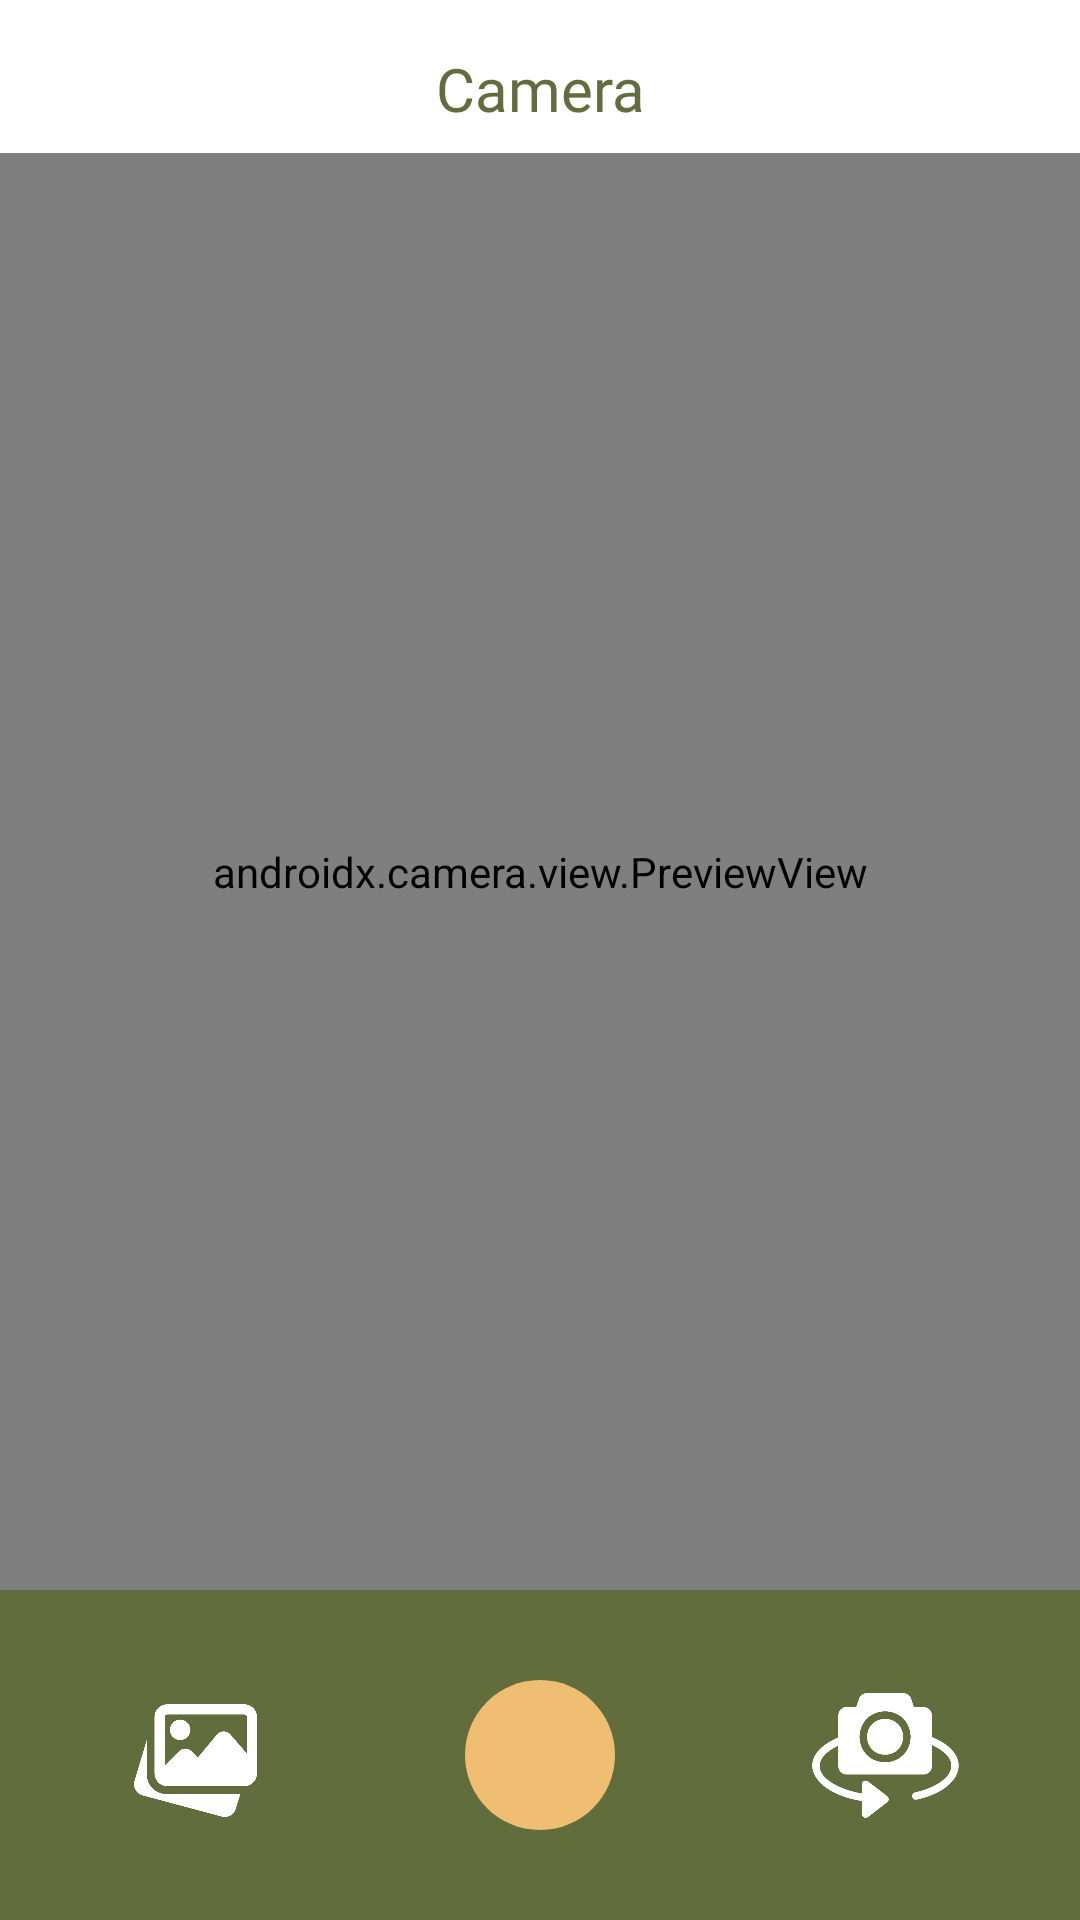

Locate icon controls on the screen. Image size 1080w x 1920h, boxes as (x1, y1, x2, y2).
gallery: (134, 1704, 257, 1817)
switch: (812, 1693, 959, 1818)
